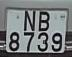3: (36, 32, 51, 52)
7: (23, 31, 37, 52)
8: (8, 31, 22, 53)
9: (50, 32, 64, 52)
B: (37, 10, 51, 32)
N: (22, 9, 38, 33)
